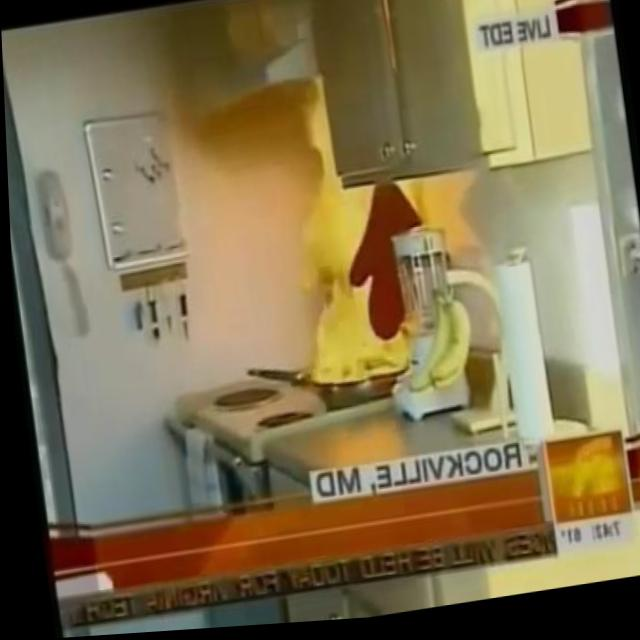fire: (273, 168, 420, 396)
